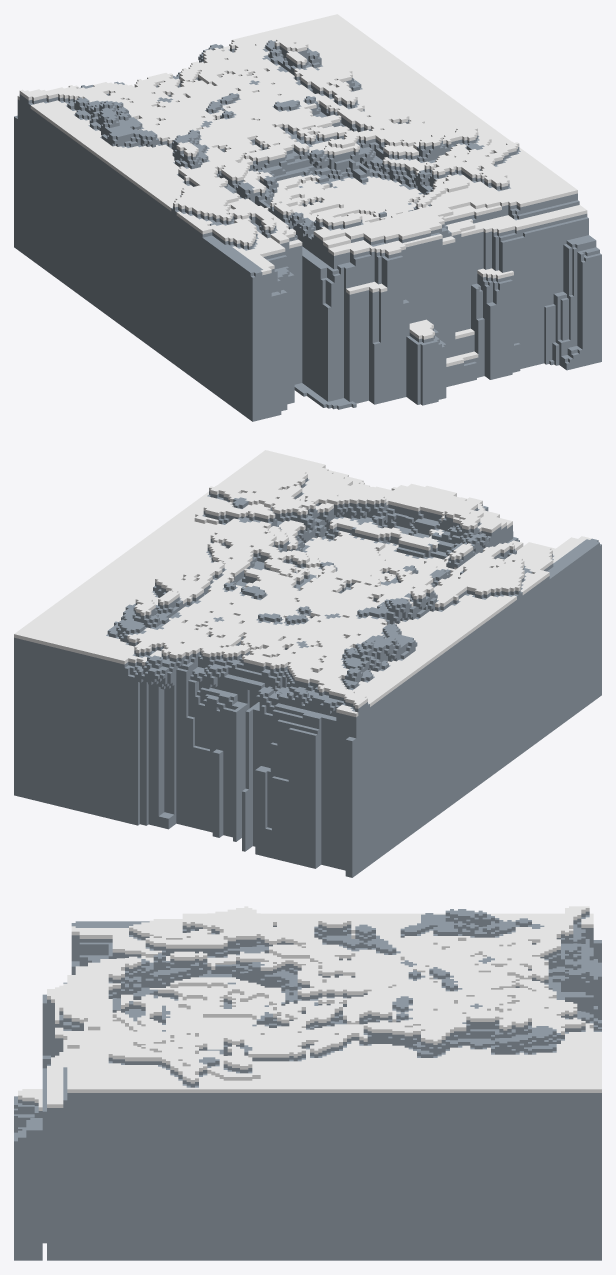
File: factory4.1-20.obj
The picture shows the model from 3 angles, top to bottom: view 1: azimuth 30°, elevation 25°; view 2: azimuth 150°, elevation 25°; view 3: azimuth 270°, elevation 25°; orthographic projection. The views are drawn at different scales.
Size of the model in its own units: 10.1 by 5.2 by 14.3.
1 material, 1 textured.
